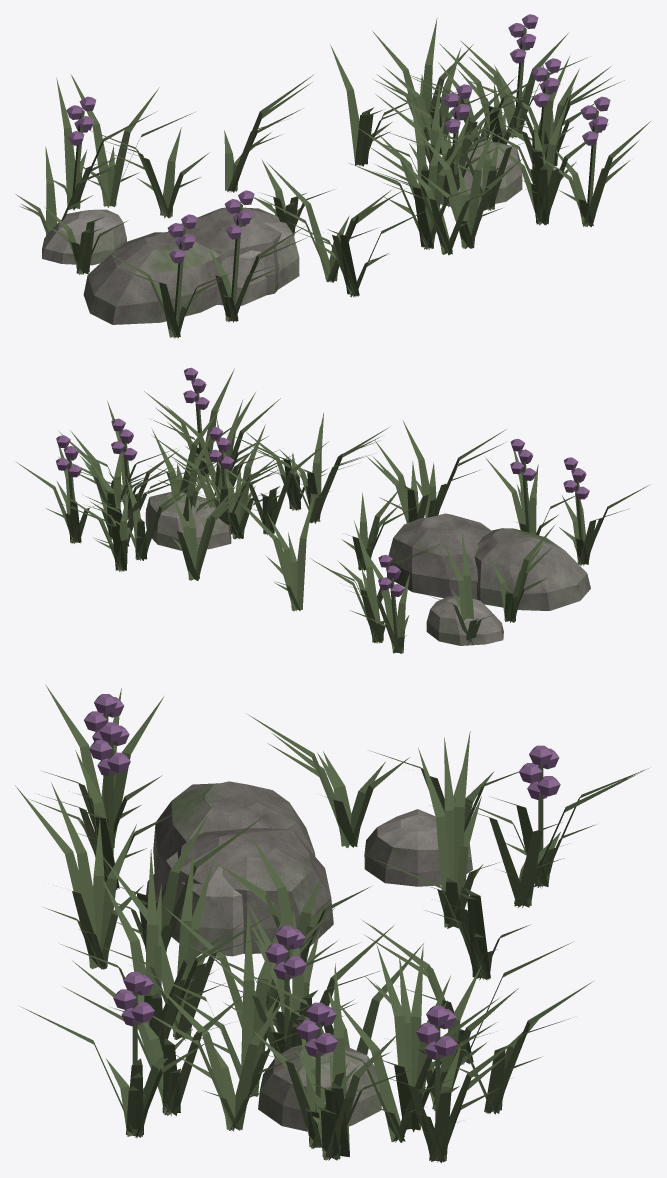
Rendered from verge.glb.
The picture shows the model from 3 angles, top to bottom: view 1: azimuth 30°, elevation 25°; view 2: azimuth 150°, elevation 25°; view 3: azimuth 270°, elevation 25°; orthographic projection. The views are drawn at different scales.
Parts seen in each view (by area): view 1: verge; view 2: verge; view 3: verge.
Boxes of the visible parts, x1=… form: verge: x1=15, y1=14, x2=650, y2=338; verge: x1=16, y1=367, x2=648, y2=653; verge: x1=15, y1=684, x2=648, y2=1163.
Size of the model in its own units: 2.79 by 0.5663 by 1.89.
3 materials, 1 textured.
